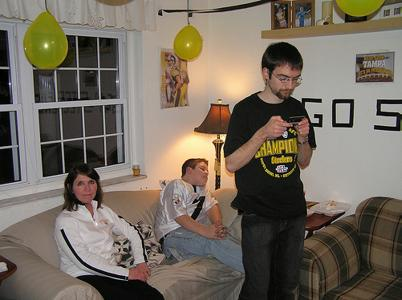person: (224, 42, 316, 300)
